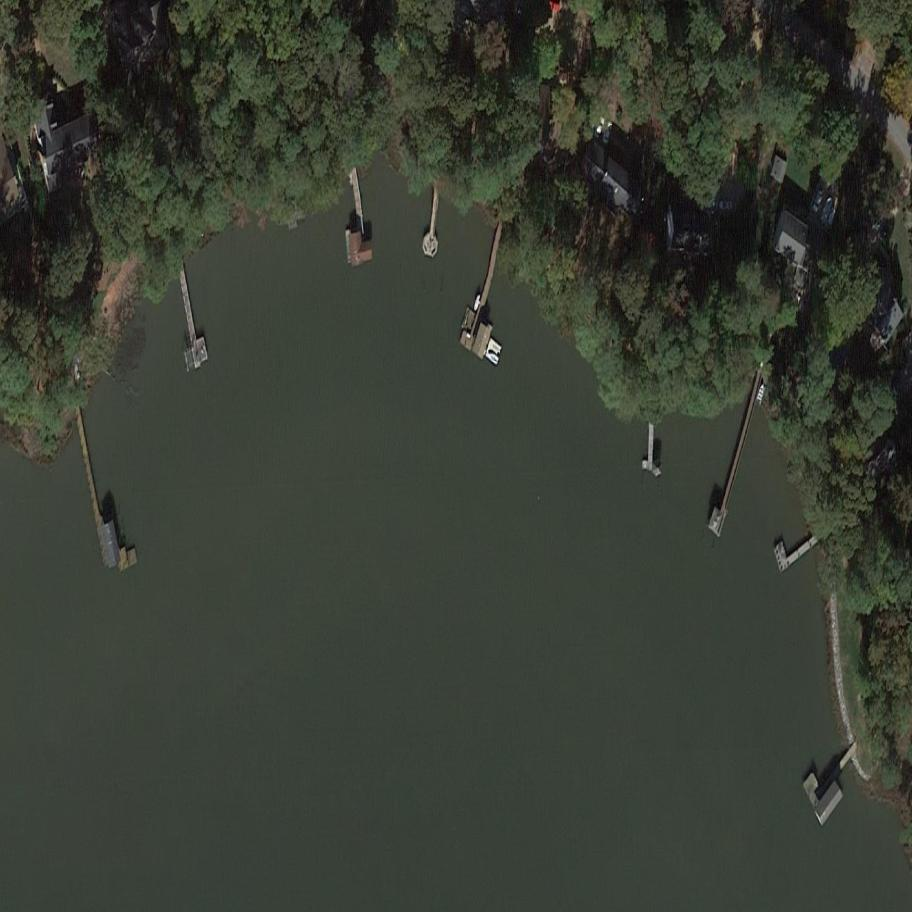ship: (819, 193, 834, 225), (754, 382, 767, 409), (470, 290, 484, 314)
small-vehicle: (809, 187, 826, 216), (591, 114, 608, 141), (600, 117, 614, 147), (717, 199, 734, 212)
